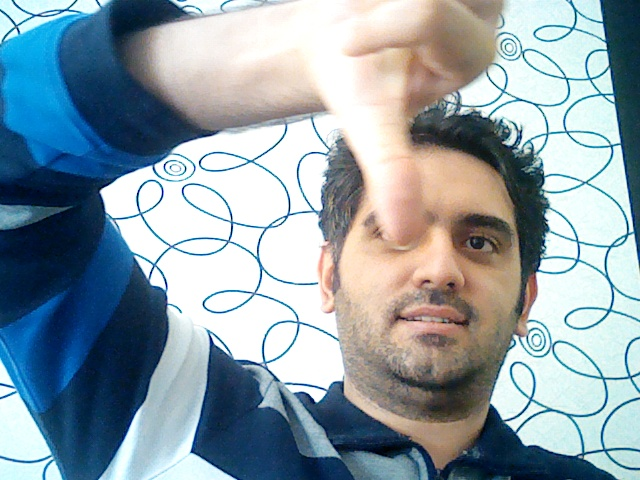ThumbsDown: (279, 1, 506, 242)
